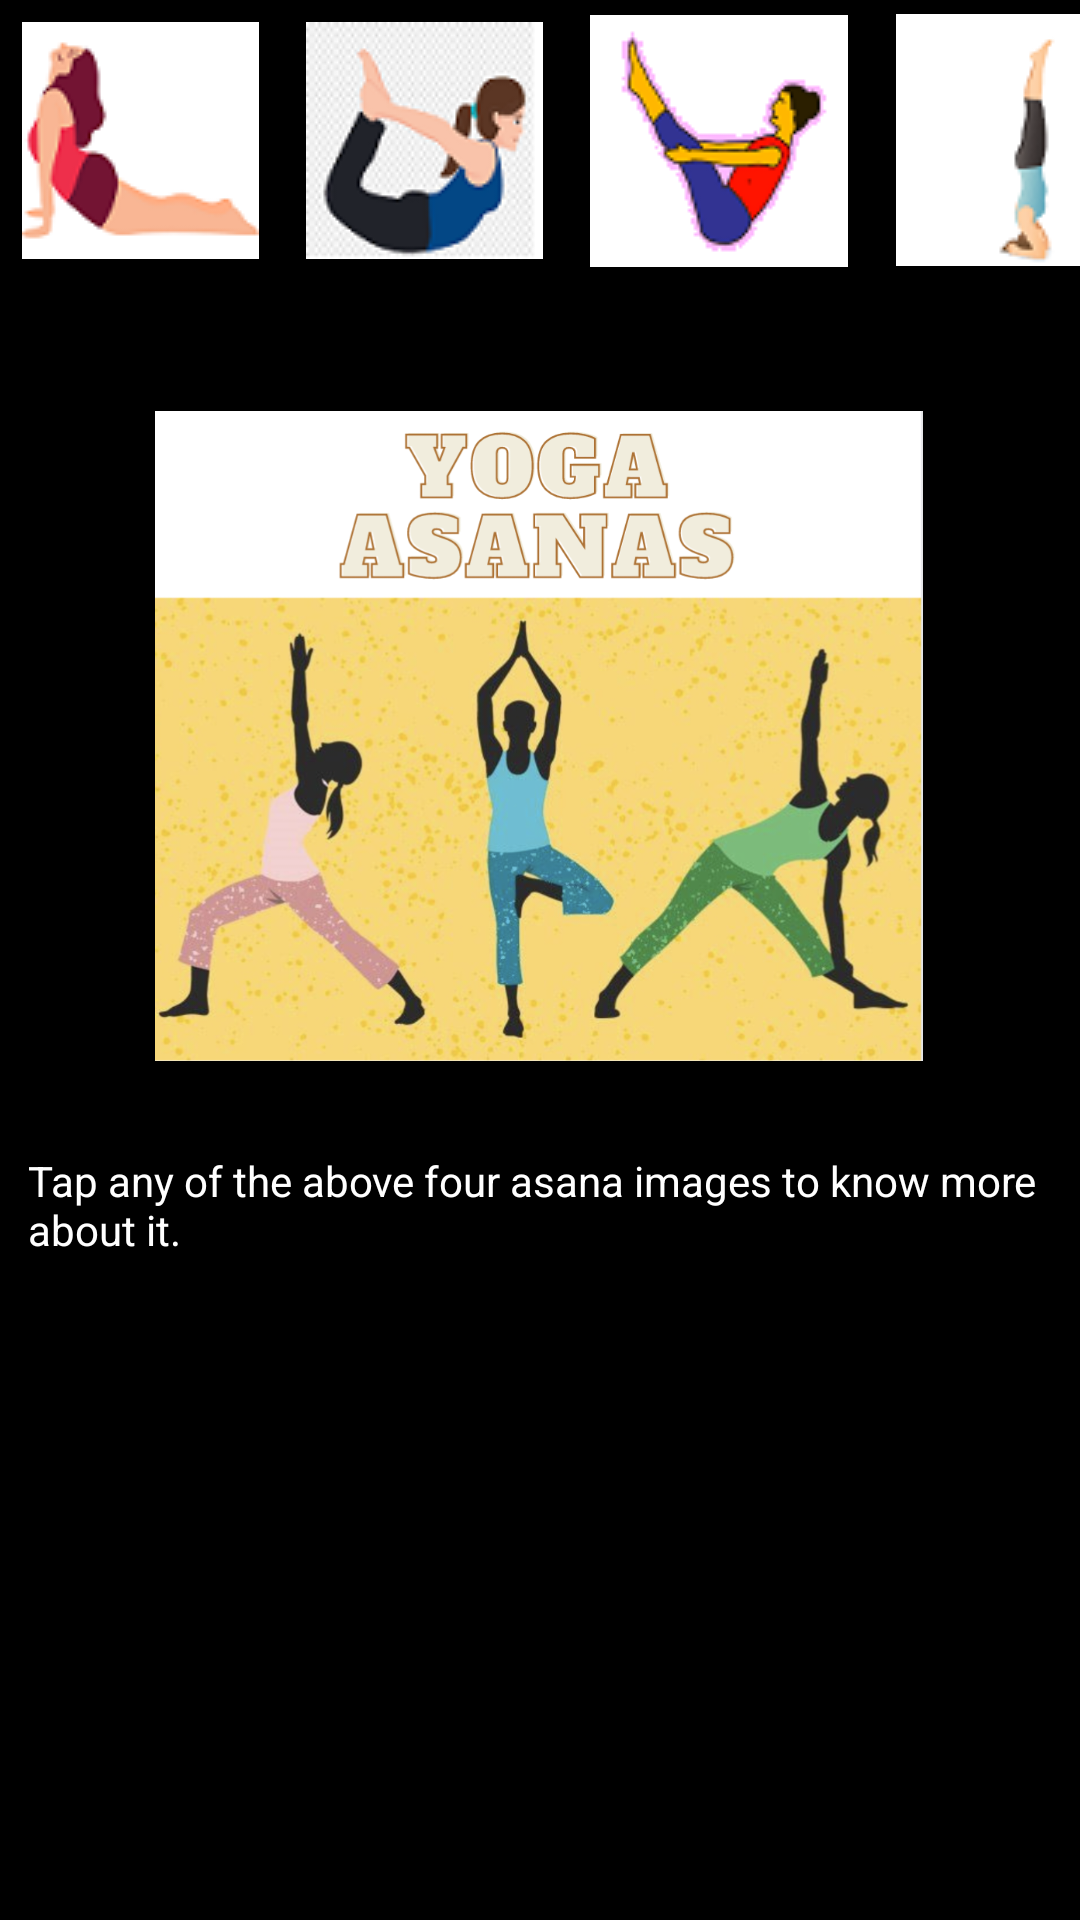

Locate icon controls on the screen. Image size 1080px×1920px, boxes as (x1, y1, x2, y2).
bhujanga: (22, 22, 259, 259)
dhanur: (306, 22, 543, 259)
nauka: (590, 15, 848, 267)
